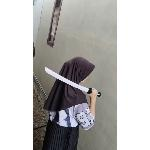Pedang: (42, 64, 104, 102)
